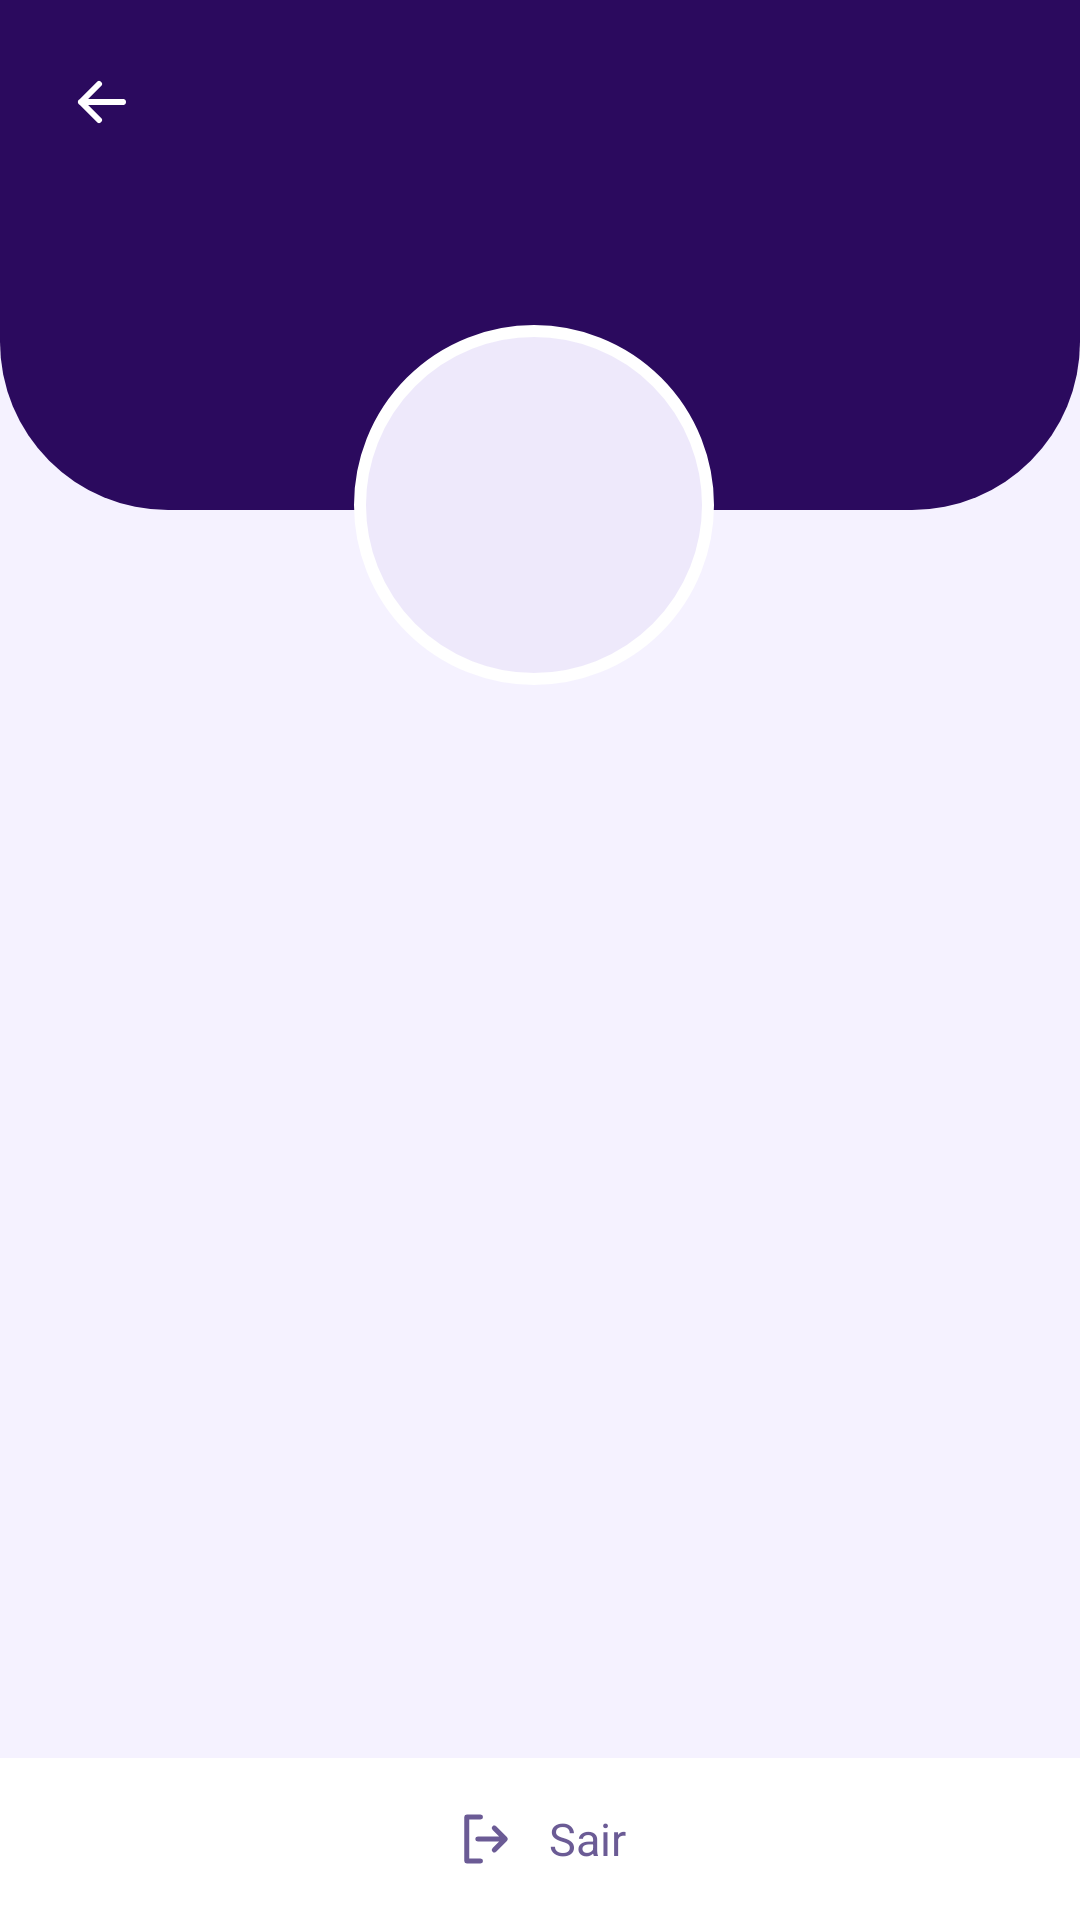

Locate icon controls on the screen. Image size 1080x1920, boxes as (x1, y1, x2, y2).
Voltar: (78, 81, 126, 123)
